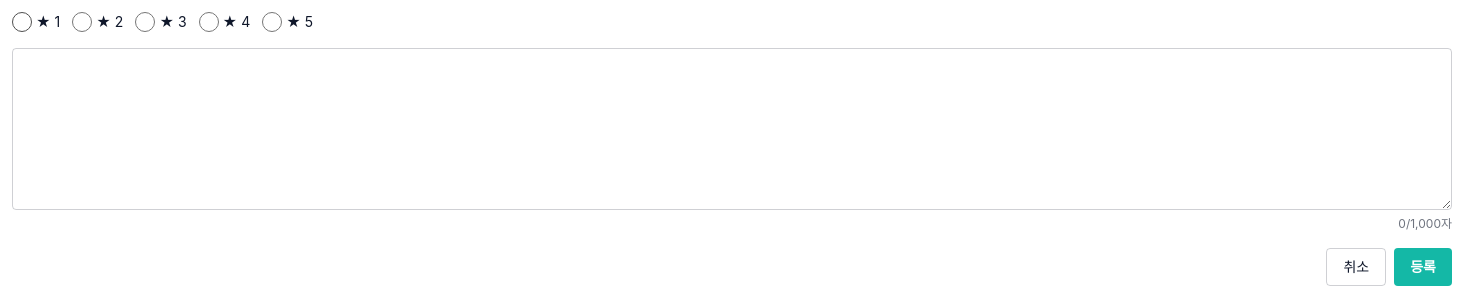
Test case: 공백을 뺀 글자 수를 보여 준다
Type "  좋아요  " into the text box named "리뷰 내용" at (732, 129), box 12,48 -> 1452,210
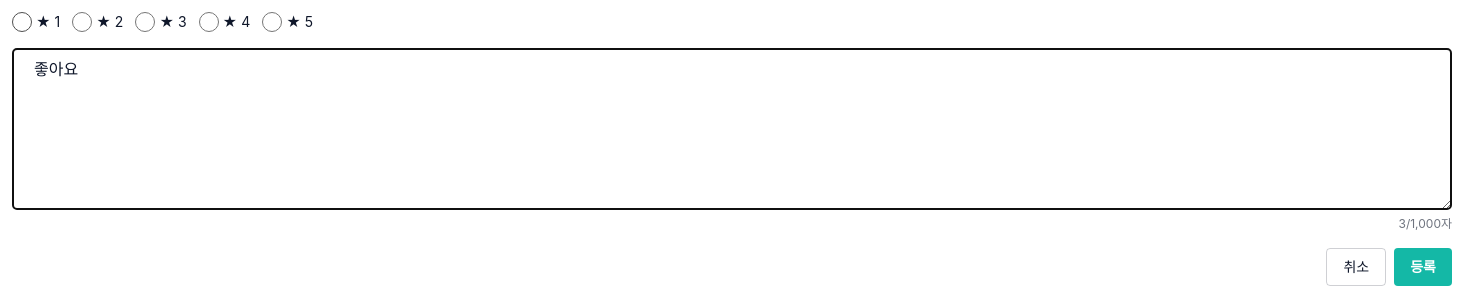
Result: the text "3/1,000자" is shown at 1398,216 -> 1452,231
